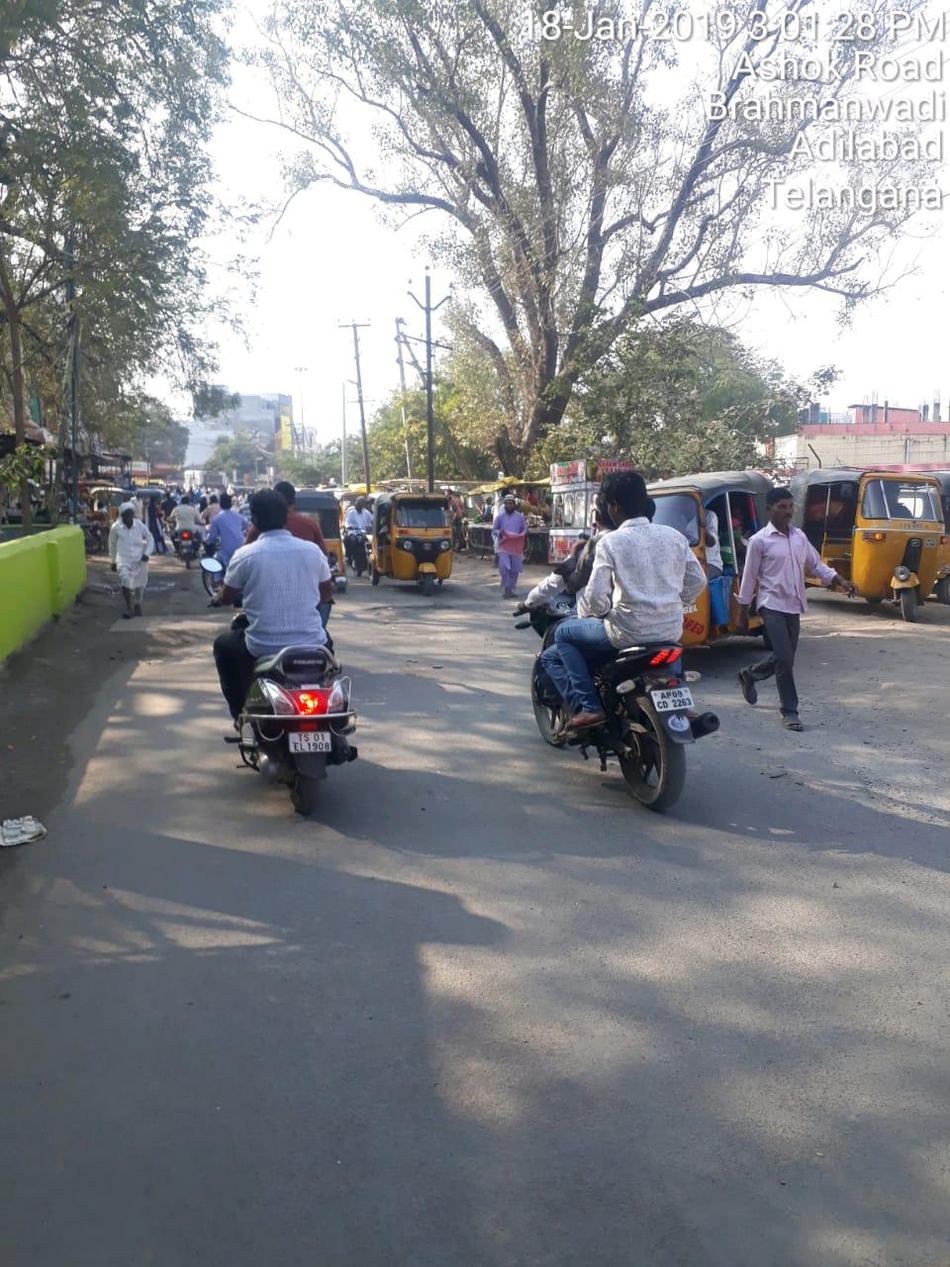plate: (280, 726, 338, 762), (648, 688, 699, 714)
